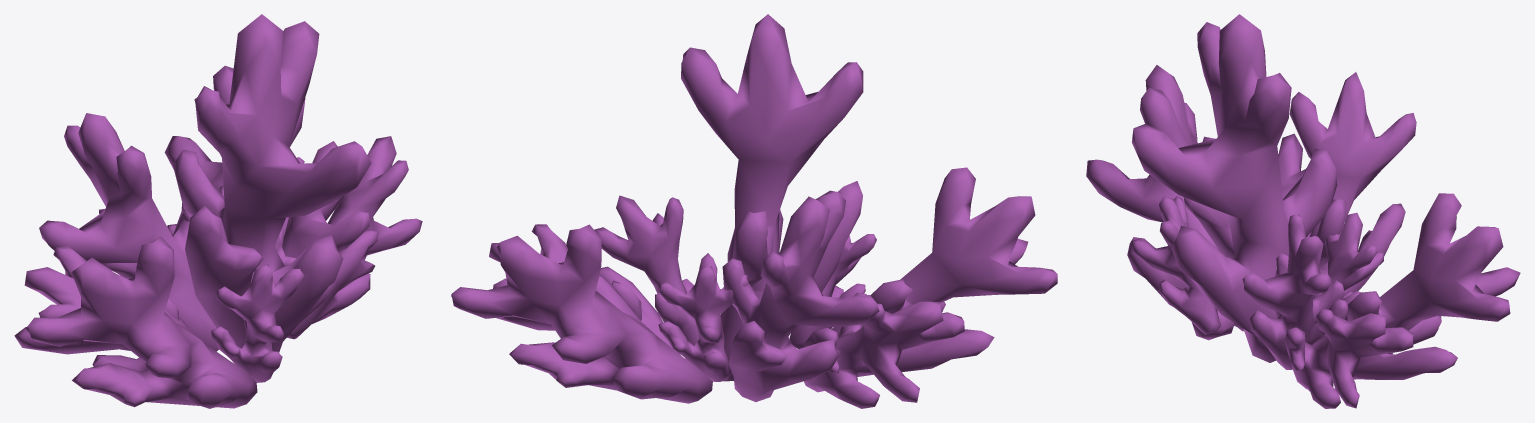
File: singlepurplecoral.gltf
The picture shows the model from 3 angles, left to right: view 1: azimuth 30°, elevation 25°; view 2: azimuth 150°, elevation 25°; view 3: azimuth 270°, elevation 25°; orthographic projection. The views are drawn at different scales.
Parts seen in each view (by area): view 1: Coral.005, Coral.001, Coral.002; view 2: Coral.005, Coral.002, Coral.001; view 3: Coral.005, Coral.002, Coral.001.
Part boxes in pixels (x1,y1,x2,y2): Coral.005: [39, 14, 371, 352]; Coral.001: [14, 237, 304, 408]; Coral.002: [164, 65, 422, 339]; Coral.005: [594, 14, 879, 401]; Coral.002: [451, 224, 748, 403]; Coral.001: [789, 167, 1057, 408]; Coral.005: [1132, 14, 1416, 369]; Coral.002: [1284, 193, 1520, 408]; Coral.001: [1086, 65, 1310, 340].
Bounding box in the file's own units: 4.51 × 3.28 × 3.73.
